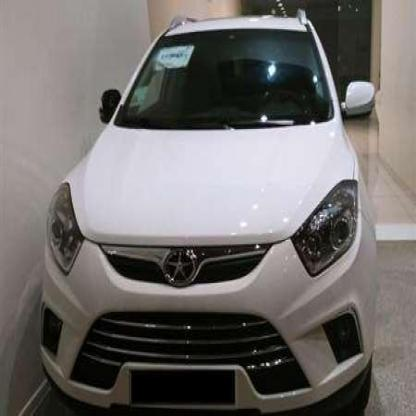Car: (39, 8, 384, 416)
